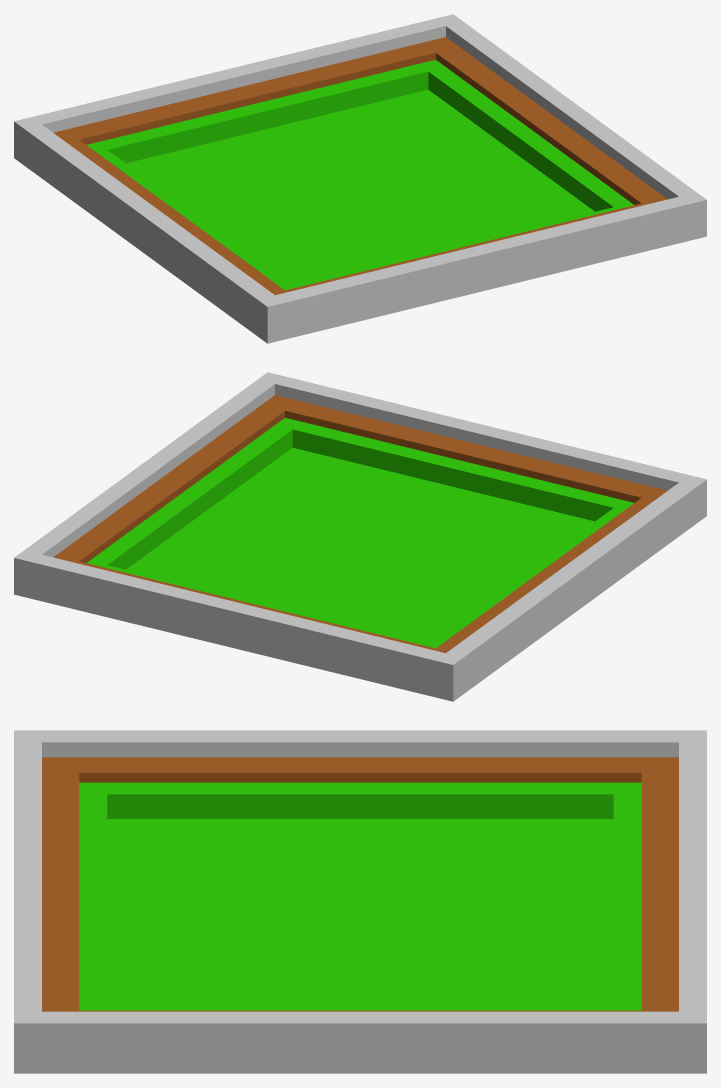
The model's file is Ground.fbx.
3 renders of one model, top to bottom at view 1: azimuth 30°, elevation 25°; view 2: azimuth 150°, elevation 25°; view 3: azimuth 270°, elevation 25°, orthographic. The views are drawn at different scales.
Parts seen in each view (by area): view 1: Cube; view 2: Cube; view 3: Cube.
Part boxes in pixels (<box>): Cube: <box>14,14,706,343</box>; Cube: <box>14,372,706,701</box>; Cube: <box>14,730,706,1073</box>.
Size of the model in its own units: 600 by 47.95 by 600.
